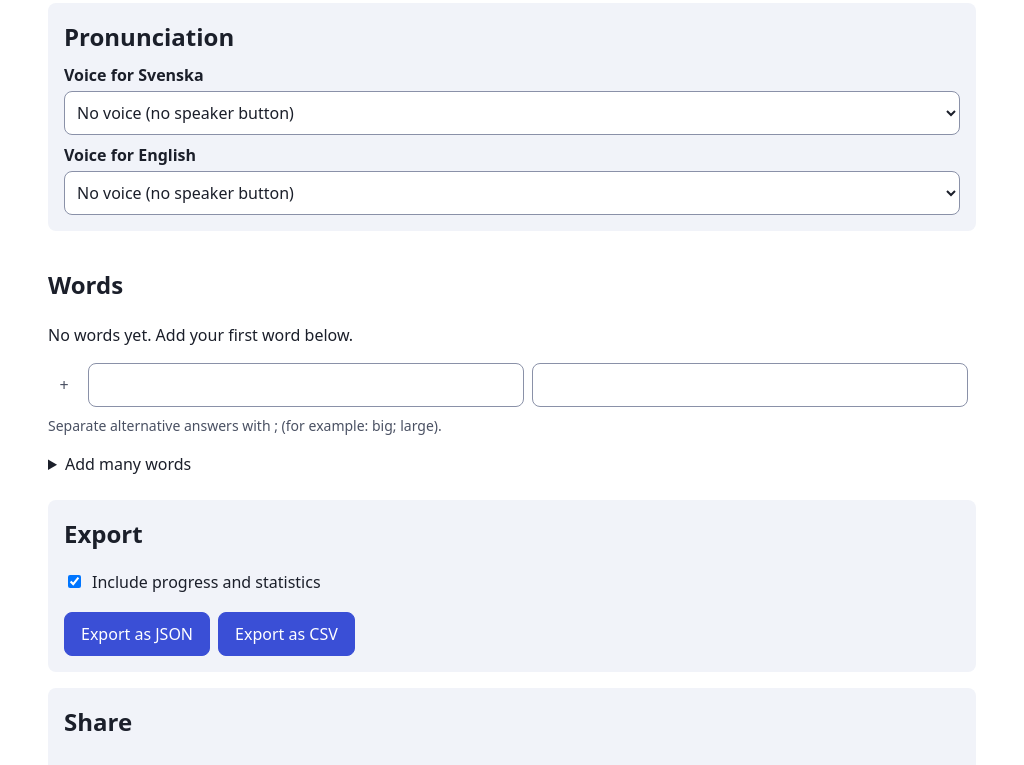
adding pairs › FR-SET-7: stores alternatives after the main term and shows them again
The image size is (1024, 765).
(page scrolled)
Check: the heading "Words" is shown, box top-left (48, 268), bottom-right (123, 301)
Type "stor" into the field named "Svenska, new word" at {"x": 306, "y": 385}, box top-left (88, 363), bottom-right (524, 407)
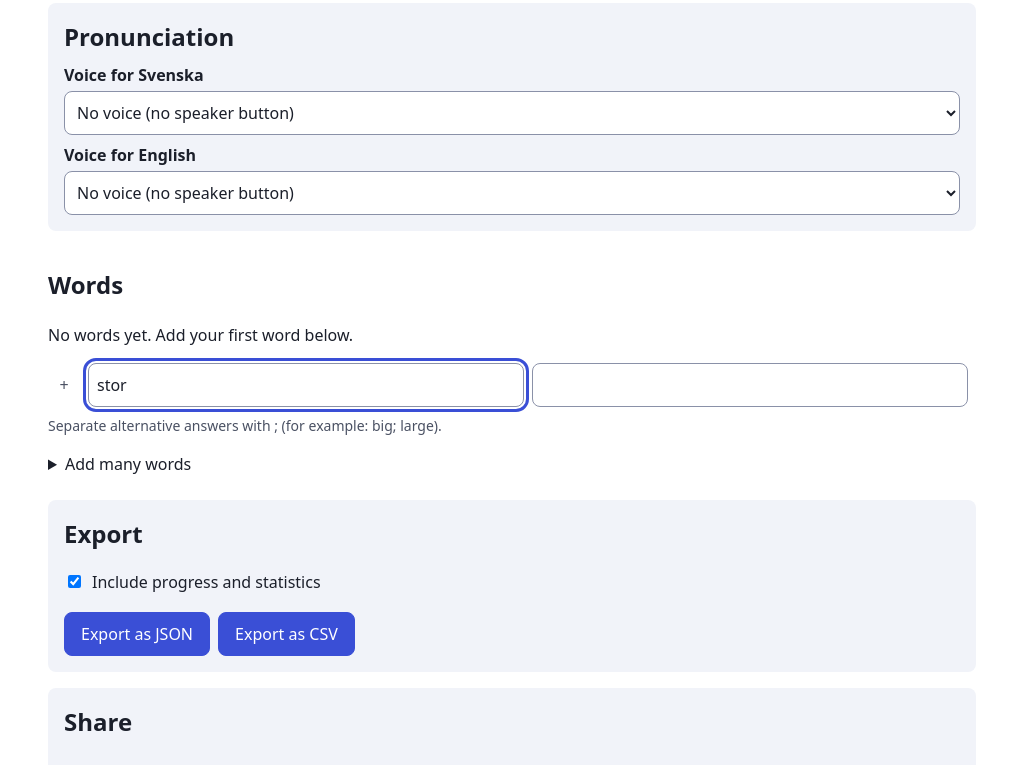
Type "big; large" into the field named "English, new word" at {"x": 750, "y": 385}, box top-left (532, 363), bottom-right (968, 407)
Then press Enter
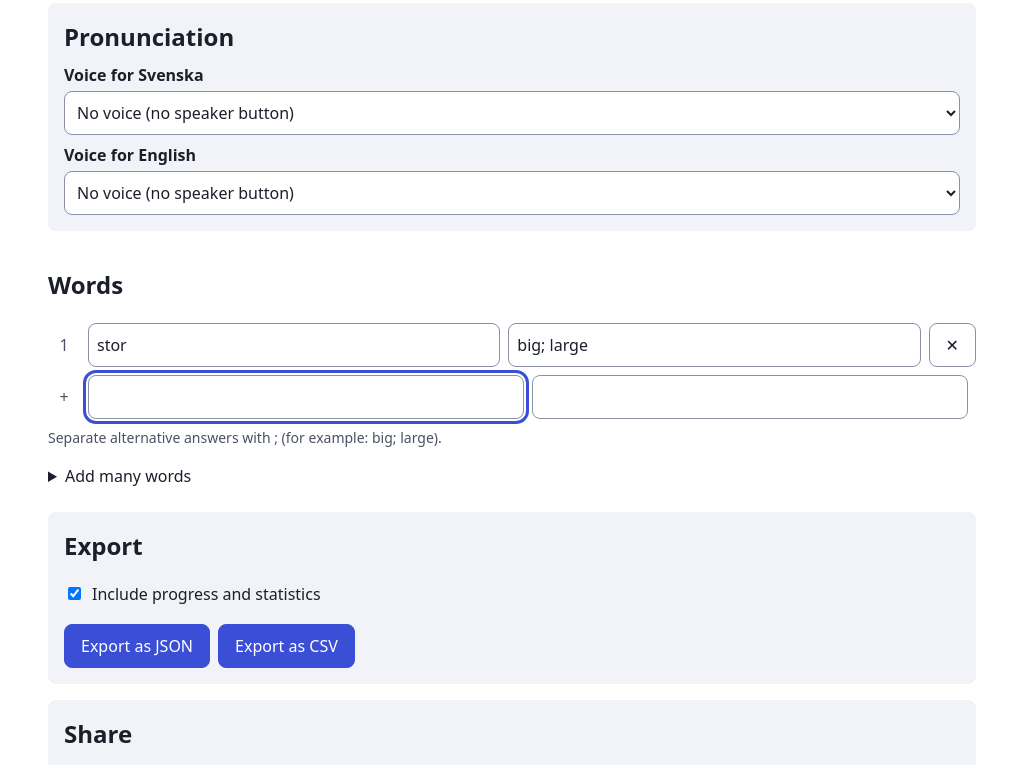
Check: the field named "English, word 1" holds "big; large", box top-left (508, 323), bottom-right (921, 367)
